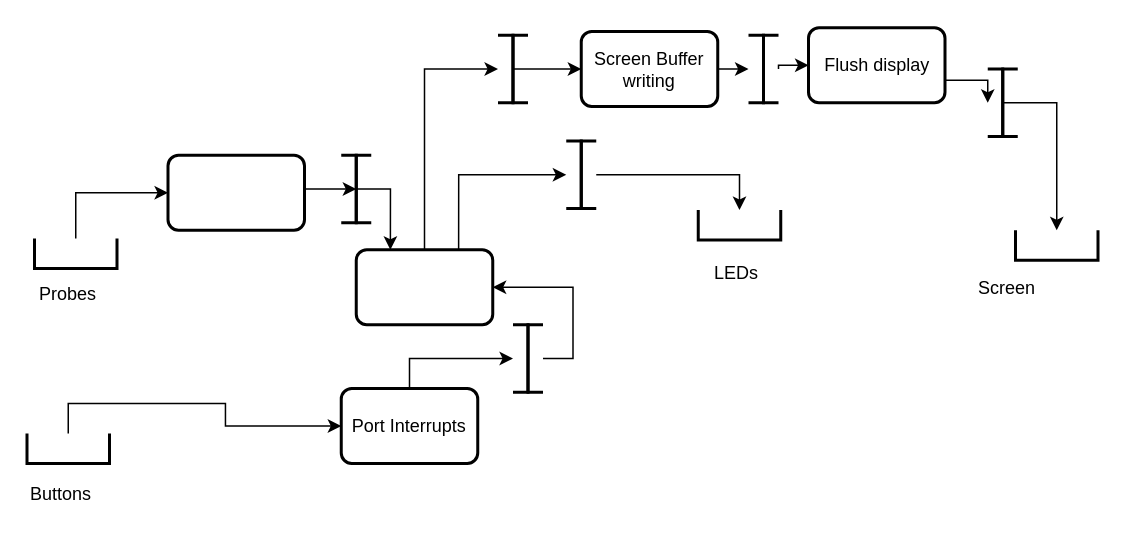
The diagram is 1125 pixels wide and 534 high, and some of its shapes have lost their labels. The centre of each missing label's shape, as x and y in pixels:
Activity: the point at 424,287
ADC: the point at 235,192
